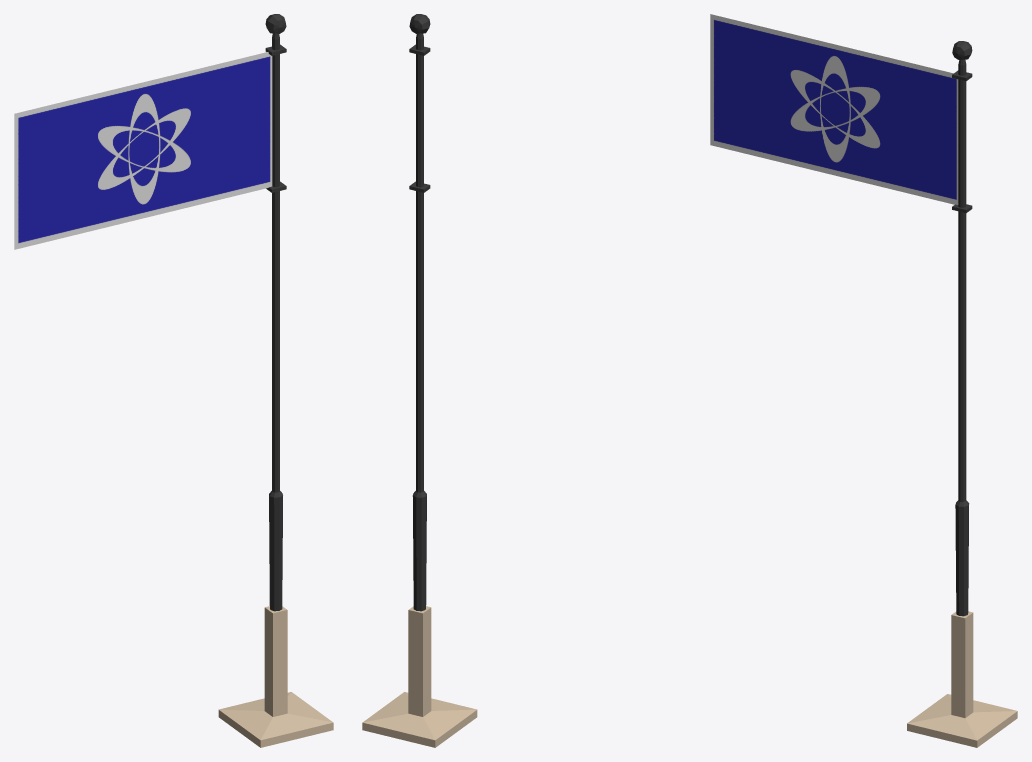
The model's file is IslandFlag.glb.
3 renders of one model, left to right at view 1: azimuth 30°, elevation 25°; view 2: azimuth 150°, elevation 25°; view 3: azimuth 330°, elevation 25°, orthographic. The views are drawn at different scales.
Visible parts, largest first — view 1: flagPlane, flagPole; view 2: flagPole; view 3: flagPlane, flagPole.
Boxes of the visible parts, left/top/right/bottom form: flagPlane: left=14, top=52, right=272, bottom=249; flagPole: left=218, top=14, right=333, bottom=747; flagPole: left=362, top=14, right=477, bottom=747; flagPlane: left=710, top=14, right=958, bottom=204; flagPole: left=907, top=41, right=1017, bottom=747.
Bounding box in the file's own units: 5.72 × 13 × 1.4.
2 materials, 2 textured.
